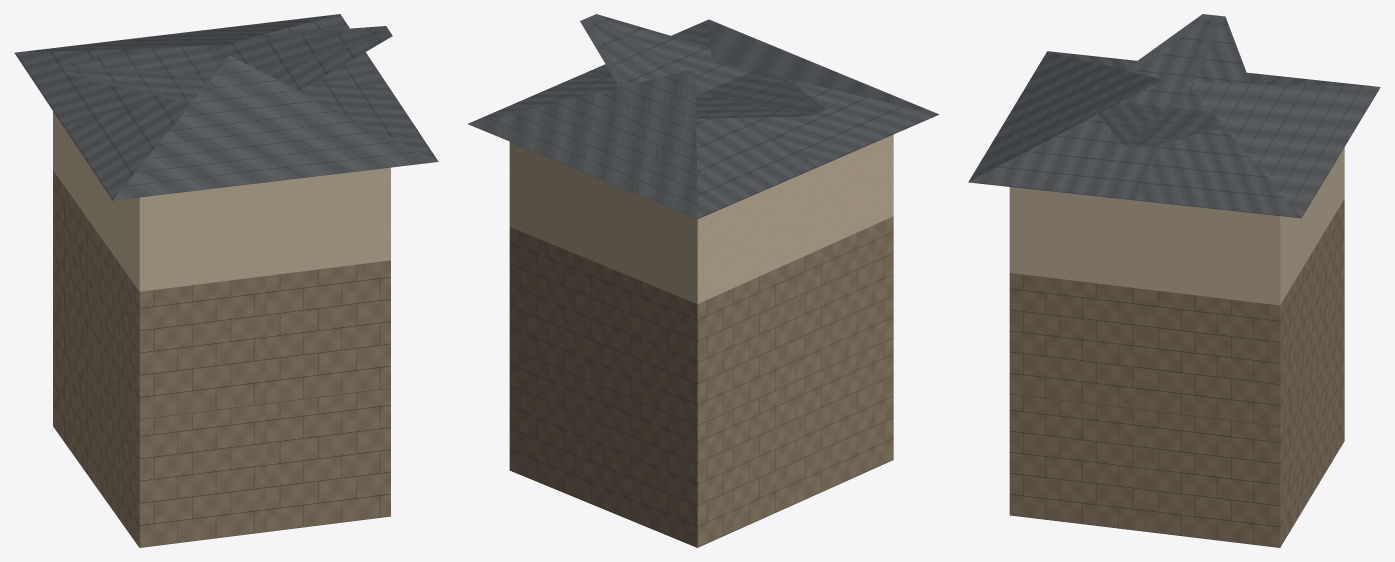
The model's file is bld_c-41_35_826.gltf.
3 renders of one model, left to right at view 1: azimuth 30°, elevation 25°; view 2: azimuth 150°, elevation 25°; view 3: azimuth 270°, elevation 25°, orthographic. The views are drawn at different scales.
Parts seen in each view (by area): view 1: bld_c-41_35_826; view 2: bld_c-41_35_826; view 3: bld_c-41_35_826.
Boxes of the visible parts, x1,y1,x2,y2 form: bld_c-41_35_826: (14,14,438,547); bld_c-41_35_826: (468,14,938,547); bld_c-41_35_826: (968,14,1380,547).
Size of the model in its own units: 6.65 by 7.4 by 6.94.
3 materials, 3 textured.
